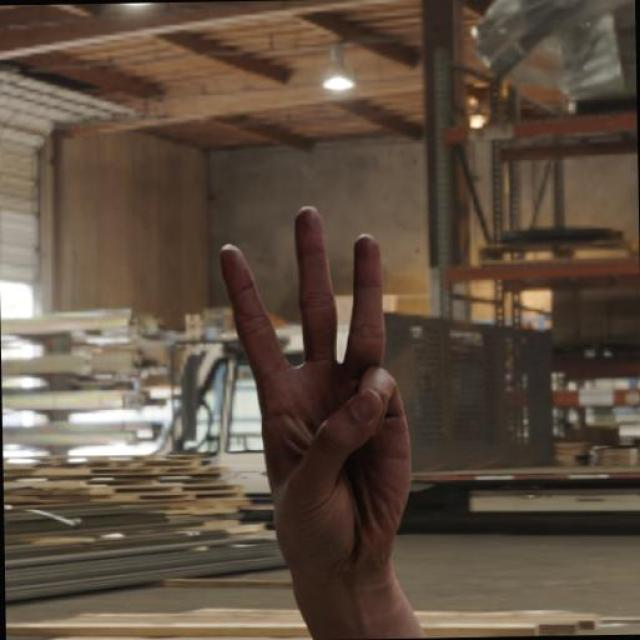W: (214, 203, 419, 586)
